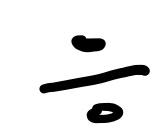div: (38, 34, 150, 124)
